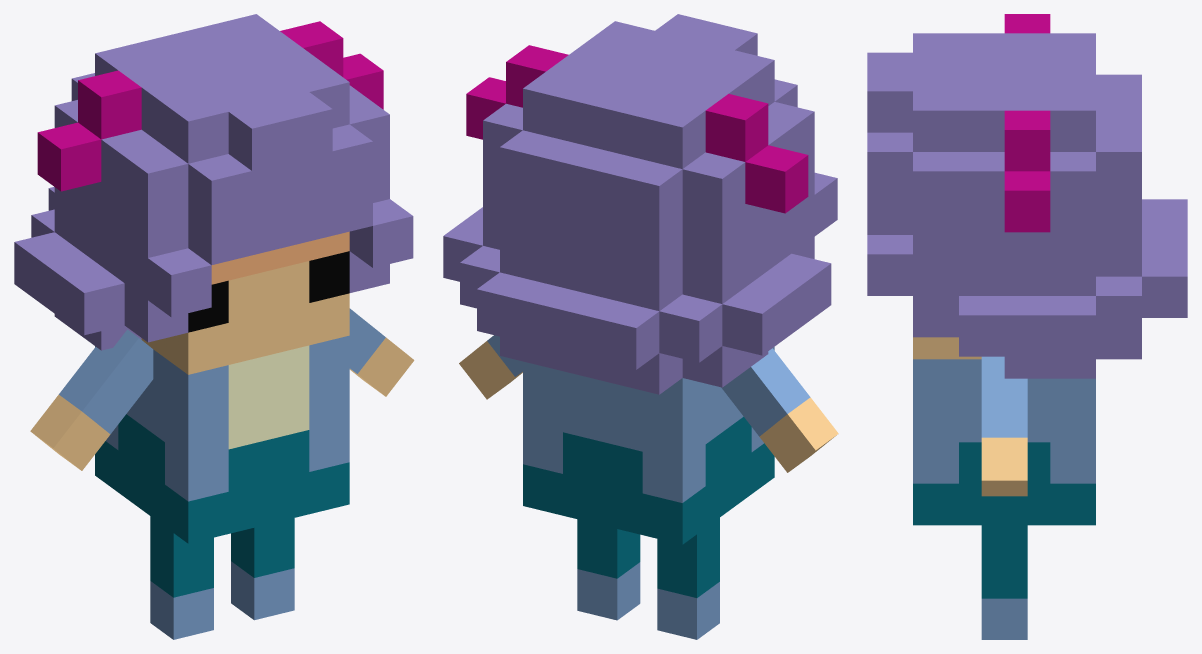
Rendered from fbx_shopkeeper.fbx.
3 renders of one model, left to right at view 1: azimuth 30°, elevation 25°; view 2: azimuth 150°, elevation 25°; view 3: azimuth 270°, elevation 25°, orthographic.
Parts seen in each view (by area): view 1: character_animation_04, char_right_arm, char_right_leg1, char_left_leg1, char_left_arm; view 2: character_animation_04, char_right_arm, char_right_leg1, char_left_leg1, char_left_arm; view 3: character_animation_04, char_left_arm, char_left_leg1.
Part boxes in pixels (<box>): character_animation_04: <box>14,14,413,543</box>; char_right_arm: <box>30,329,153,470</box>; char_right_leg1: <box>150,516,213,639</box>; char_left_leg1: <box>231,518,294,620</box>; char_left_arm: <box>349,308,414,396</box>; character_animation_04: <box>443,14,837,544</box>; char_right_arm: <box>721,348,838,472</box>; char_right_leg1: <box>657,518,719,639</box>; char_left_leg1: <box>577,519,640,620</box>; char_left_arm: <box>459,335,522,399</box>; character_animation_04: <box>867,14,1187,525</box>; char_left_arm: <box>981,356,1027,496</box>; char_left_leg1: <box>981,525,1027,639</box>.
Size of the model in its own units: 8.95 by 13 by 7.
